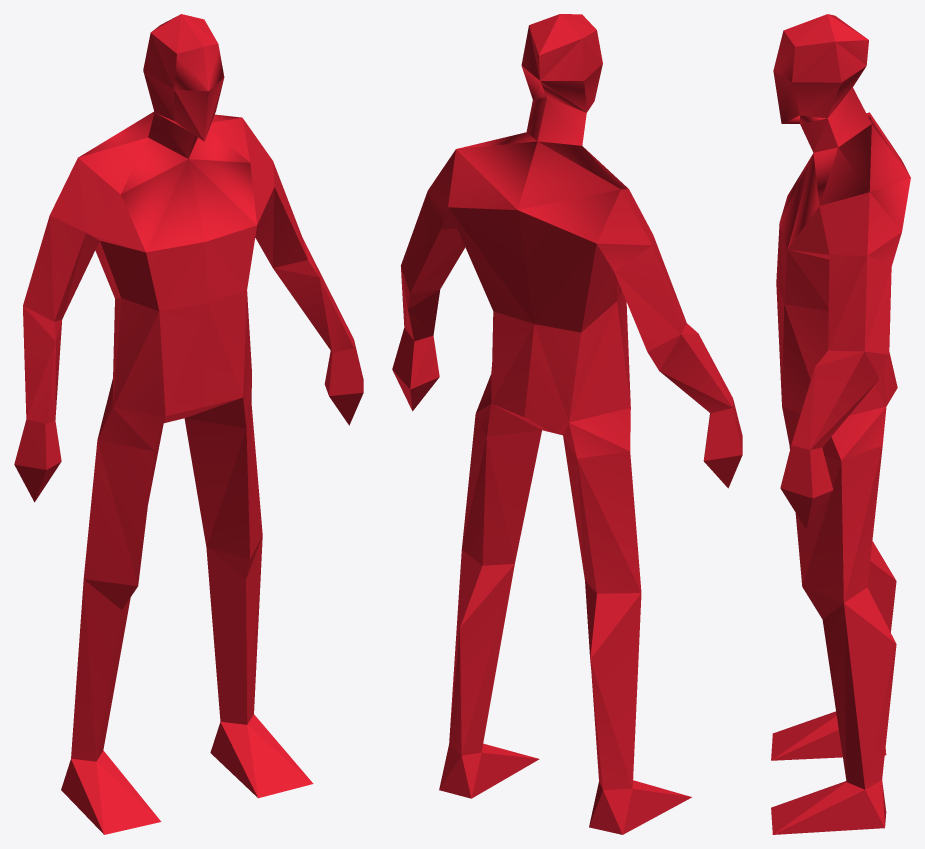
File: person.glb
3 views of the same model, side by side, from view 1: azimuth 30°, elevation 25°; view 2: azimuth 150°, elevation 25°; view 3: azimuth 270°, elevation 25° (orthographic).
Parts seen in each view (by area): view 1: Object_7; view 2: Object_7; view 3: Object_7.
Part boxes in pixels (x1,y1,x2,y2): Object_7: (14, 14, 363, 834); Object_7: (392, 14, 742, 834); Object_7: (771, 14, 910, 834).
Bounding box in the file's own units: 0.9664 × 2.05 × 0.3375.
